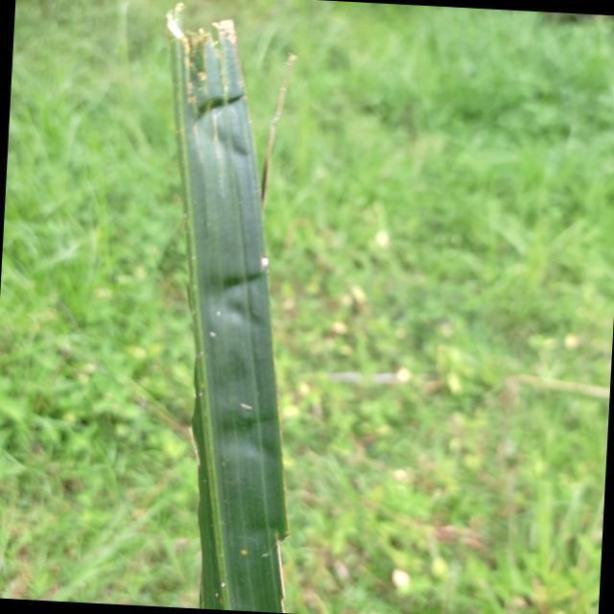Boron: (153, 0, 288, 614)
